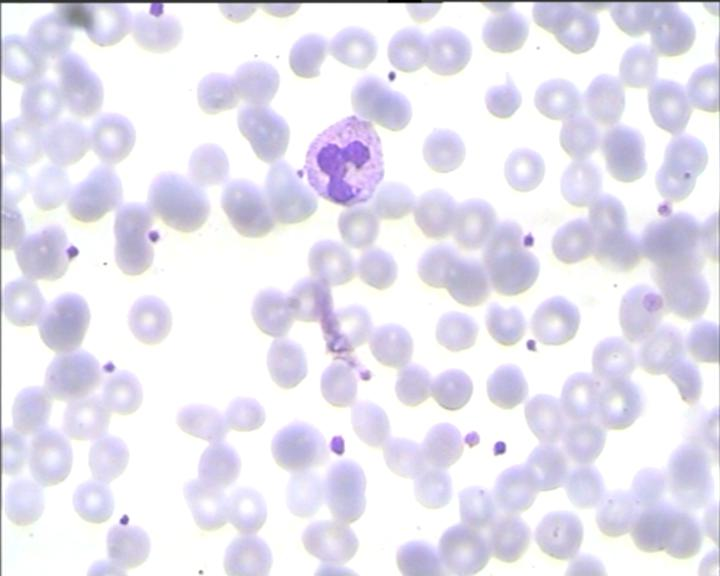neut: (302, 115, 386, 205)
